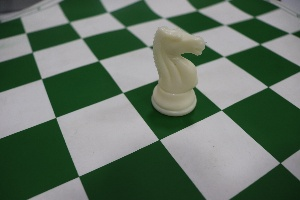white_horse: (141, 15, 210, 128)
